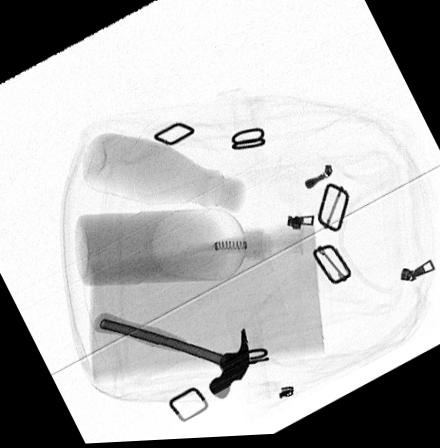Hammer: (91, 313, 249, 401)
